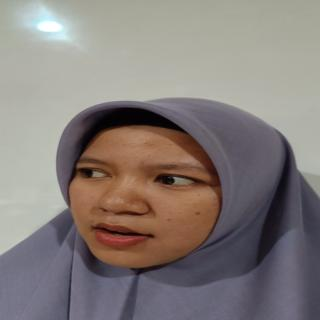Takut: (63, 119, 244, 274)
